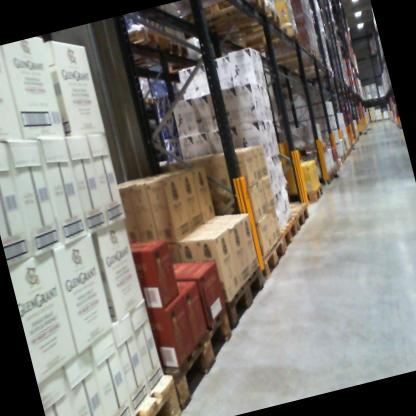pallet: (144, 301, 255, 416), (91, 370, 194, 416), (188, 4, 284, 49), (220, 263, 280, 333), (177, 0, 273, 36), (253, 230, 292, 286), (123, 21, 175, 61), (237, 23, 302, 55), (281, 194, 319, 239), (281, 179, 325, 214), (166, 27, 200, 64), (277, 211, 307, 252), (269, 47, 319, 71), (290, 137, 332, 164), (163, 55, 203, 78), (313, 168, 336, 190), (140, 93, 159, 107), (328, 164, 340, 180)
pallet_truck: (389, 95, 403, 132)
